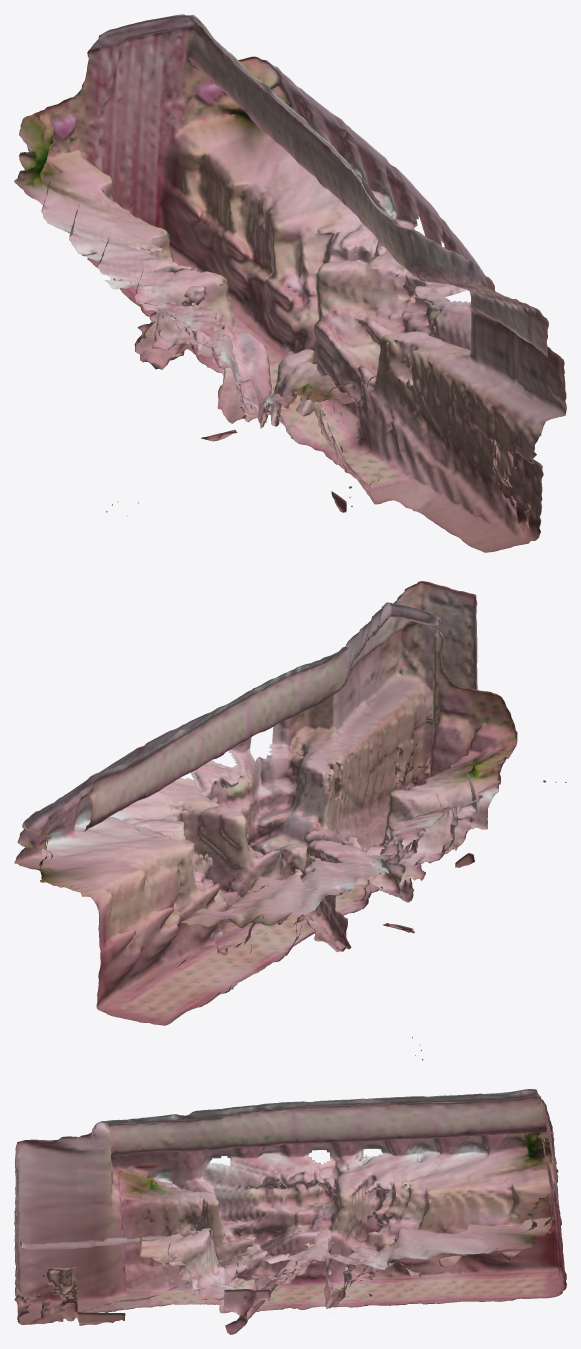
File: pink-cherry-plane-1-1-pano_collider.glb
3 views of the same model, one above another, from view 1: azimuth 30°, elevation 25°; view 2: azimuth 150°, elevation 25°; view 3: azimuth 270°, elevation 25° (orthographic). The views are drawn at different scales.
Parts seen in each view (by area): view 1: world; view 2: world; view 3: world.
Boxes of the visible parts, box(x1,y1,x2,y2) form: world: box(14, 14, 566, 552); world: box(14, 581, 566, 1060); world: box(14, 1089, 566, 1334).
Bounding box in the file's own units: 4.19 × 4.55 × 8.54.
